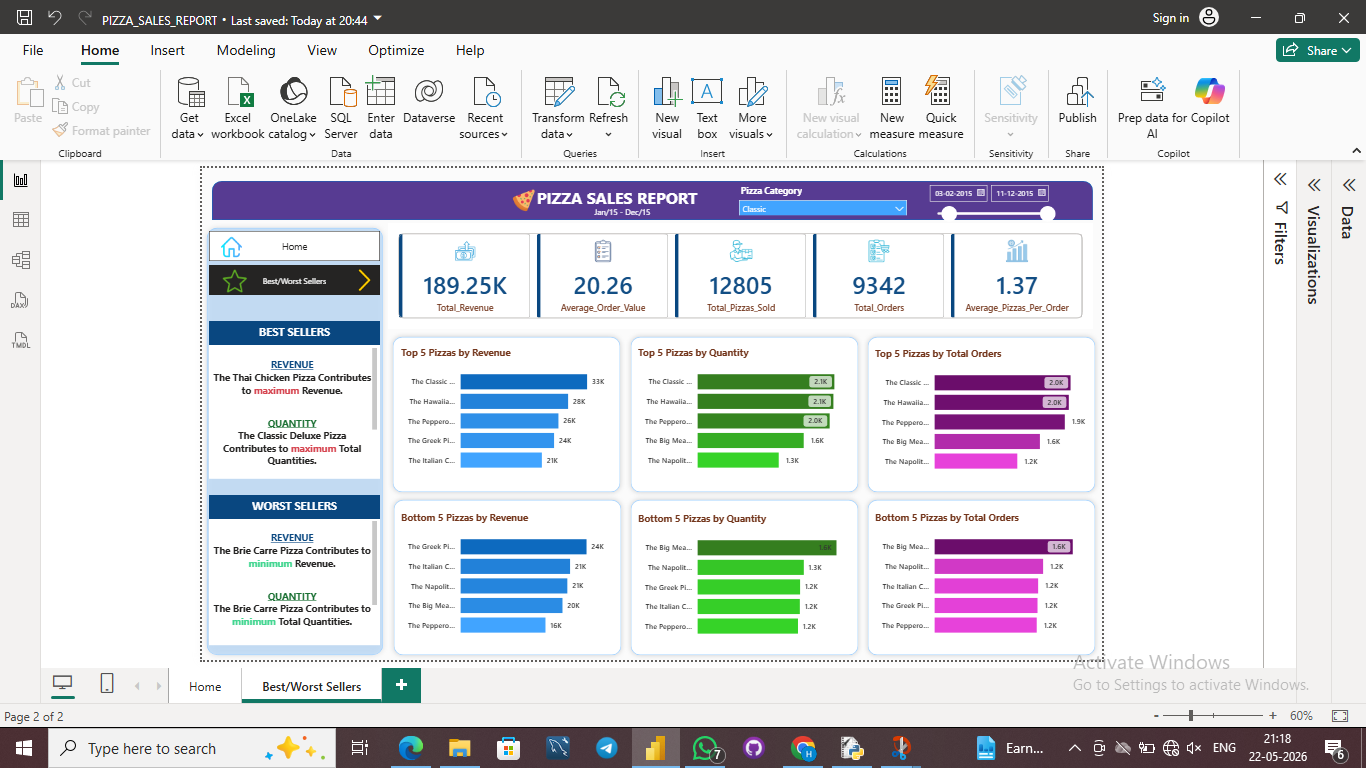

What the dashboard file says about the page in this screenshot:
{"tool":"powerbi","page":{"name":"Best/Worst Sellers","canvas":[1500,820],"ordinal":1},"visuals":[{"type":"shape","box":[0,91.7,310,728.3],"z":0},{"type":"cardVisual","fields":{"Data":["pizza_db pizza_sales.Total_Revenue","pizza_db pizza_sales.Average_Order_Value","pizza_db pizza_sales.Total_Pizzas_Sold","pizza_db pizza_sales.Total_Orders","pizza_db pizza_sales.Average_Pizzas_Per_Order"]},"box":[310,91.7,1175,176.7],"z":1000},{"type":"shape","box":[16.7,21.7,1468.3,65],"z":2000},{"type":"textbox","box":[551.7,26.7,280,56.7],"z":3000},{"type":"textbox","box":[641.7,60,128.3,45],"z":4000},{"type":"image","box":[508.3,35,56.7,38.3],"z":5000},{"type":"shape","box":[310,273.3,395,275],"z":6000},{"type":"textbox","box":[11.7,255,285,40],"z":7000},{"type":"textbox","box":[11.7,295,285,223.3],"z":8000},{"type":"textbox","box":[11.7,583.3,285,211.7],"z":9000},{"type":"textbox","box":[11.7,545,285,40],"z":10000},{"type":"slicer","title":"Pizza Category","fields":{"Values":["pizza_db pizza_sales.pizza_category"]},"box":[885,21.7,300,56.7],"z":11000},{"type":"slicer","title":"Pizza Category","fields":{"Values":["pizza_db pizza_sales.order_date"]},"box":[1200,18.3,241.7,83.3],"z":12000},{"type":"shape","box":[706.7,273.3,395,275],"z":13000},{"type":"shape","box":[1101.7,273.3,395,275],"z":14000},{"type":"shape","box":[311.7,545,395,275],"z":15000},{"type":"shape","box":[706.7,545,395,275],"z":16000},{"type":"shape","box":[1101.7,545,395,275],"z":17000},{"type":"barChart","title":"Top 5 Pizzas by Revenue","fields":{"Category":["pizza_db pizza_sales.pizza_name"],"Y":["pizza_db pizza_sales.Total_Revenue"]},"box":[326.7,296.7,365,221.7],"z":18000},{"type":"barChart","title":"Top 5 Pizzas by Quantity","fields":{"Category":["pizza_db pizza_sales.pizza_name"],"Y":["pizza_db pizza_sales.Total_Pizzas_Sold"]},"box":[721.7,296.7,365,221.7],"z":19000},{"type":"barChart","title":" Bottom 5 Pizzas by Revenue","fields":{"Category":["pizza_db pizza_sales.pizza_name"],"Y":["pizza_db pizza_sales.Total_Revenue"]},"box":[326.7,571.7,365,221.7],"z":20000},{"type":"barChart","title":"Top 5 Pizzas by Total Orders","fields":{"Category":["pizza_db pizza_sales.pizza_name"],"Y":["pizza_db pizza_sales.Total_Orders"]},"box":[1116.7,298.3,365,221.7],"z":21000},{"type":"barChart","title":"Bottom 5 Pizzas by Quantity","fields":{"Category":["pizza_db pizza_sales.pizza_name"],"Y":["pizza_db pizza_sales.Total_Pizzas_Sold"]},"box":[721.7,573.3,365,221.7],"z":22000},{"type":"barChart","title":"Bottom 5 Pizzas by Total Orders","fields":{"Category":["pizza_db pizza_sales.pizza_name"],"Y":["pizza_db pizza_sales.Total_Orders"]},"box":[1116.7,571.7,365,221.7],"z":23000},{"type":"pageNavigator","box":[11.7,105,285,50],"z":24000},{"type":"pageNavigator","box":[11.7,161.7,285,50],"z":25000},{"type":"image","box":[245,168.3,51.7,36.7],"z":26000},{"type":"image","box":[31.7,108.3,35,46.7],"z":27000},{"type":"image","box":[16.7,168.3,75,40],"z":28000}]}

Visuals, with their boxes on the page's 1500x820 design canvas (x1, y1, x2, y2). These are canvas units, not pixel positions in the 1366x768 screenshot, which may show the page scaled, cropped or inside an application window:
shape: [left=0, top=92, right=310, bottom=820]
cardVisual - pizza_db pizza_sales.Total_Revenue x pizza_db pizza_sales.Average_Order_Value: [left=310, top=92, right=1485, bottom=268]
shape: [left=17, top=22, right=1485, bottom=87]
textbox: [left=552, top=27, right=832, bottom=83]
textbox: [left=642, top=60, right=770, bottom=105]
image: [left=508, top=35, right=565, bottom=73]
shape: [left=310, top=273, right=705, bottom=548]
textbox: [left=12, top=255, right=297, bottom=295]
textbox: [left=12, top=295, right=297, bottom=518]
textbox: [left=12, top=583, right=297, bottom=795]
textbox: [left=12, top=545, right=297, bottom=585]
"Pizza Category" slicer: [left=885, top=22, right=1185, bottom=78]
"Pizza Category" slicer: [left=1200, top=18, right=1442, bottom=102]
shape: [left=707, top=273, right=1102, bottom=548]
shape: [left=1102, top=273, right=1497, bottom=548]
shape: [left=312, top=545, right=707, bottom=820]
shape: [left=707, top=545, right=1102, bottom=820]
shape: [left=1102, top=545, right=1497, bottom=820]
"Top 5 Pizzas by Revenue" barChart: [left=327, top=297, right=692, bottom=518]
"Top 5 Pizzas by Quantity" barChart: [left=722, top=297, right=1087, bottom=518]
" Bottom 5 Pizzas by Revenue" barChart: [left=327, top=572, right=692, bottom=793]
"Top 5 Pizzas by Total Orders" barChart: [left=1117, top=298, right=1482, bottom=520]
"Bottom 5 Pizzas by Quantity" barChart: [left=722, top=573, right=1087, bottom=795]
"Bottom 5 Pizzas by Total Orders" barChart: [left=1117, top=572, right=1482, bottom=793]
pageNavigator: [left=12, top=105, right=297, bottom=155]
pageNavigator: [left=12, top=162, right=297, bottom=212]
image: [left=245, top=168, right=297, bottom=205]
image: [left=32, top=108, right=67, bottom=155]
image: [left=17, top=168, right=92, bottom=208]
